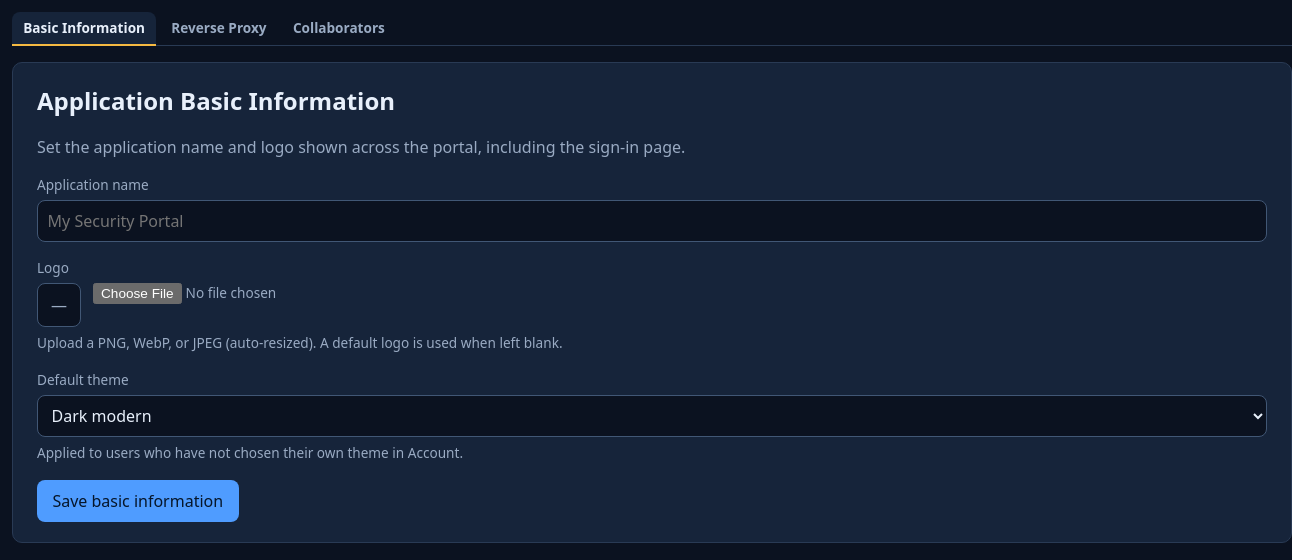
GeneralSettings › adds, removes, and saves collaborators
The image size is (1292, 560).
Click the button "Collaborators" at coordinates (339, 29), box 282,12 -> 396,46
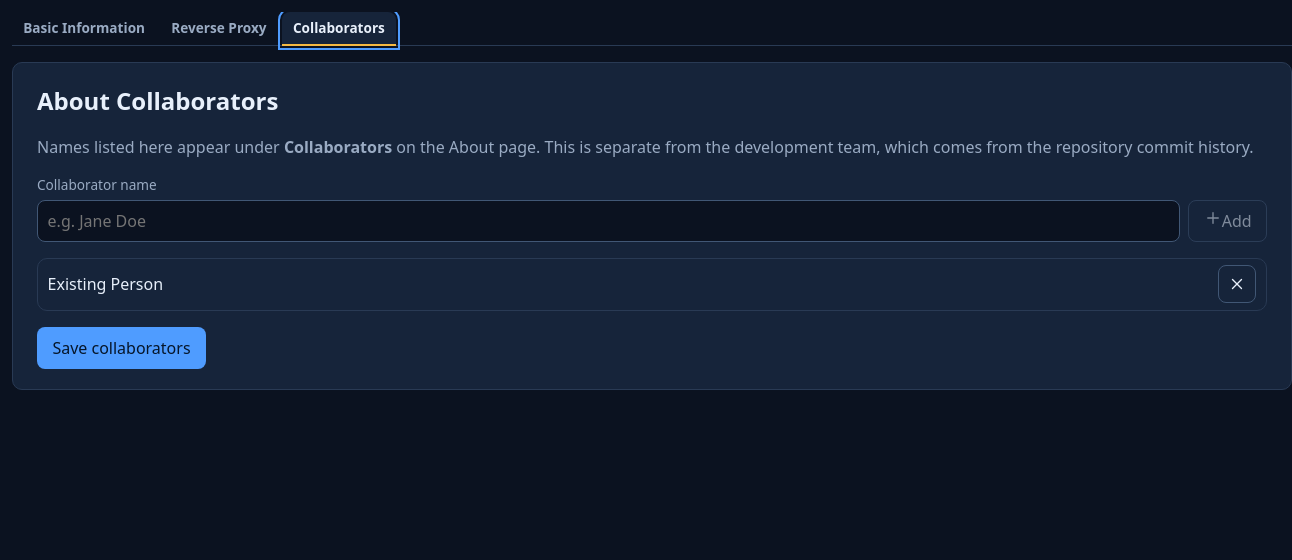
Result: the text "Existing Person" is shown at 48,272 -> 163,296
Type "New Person" into the field labelled "Collaborator name" at coordinates (609, 221), box 37,200 -> 1180,242
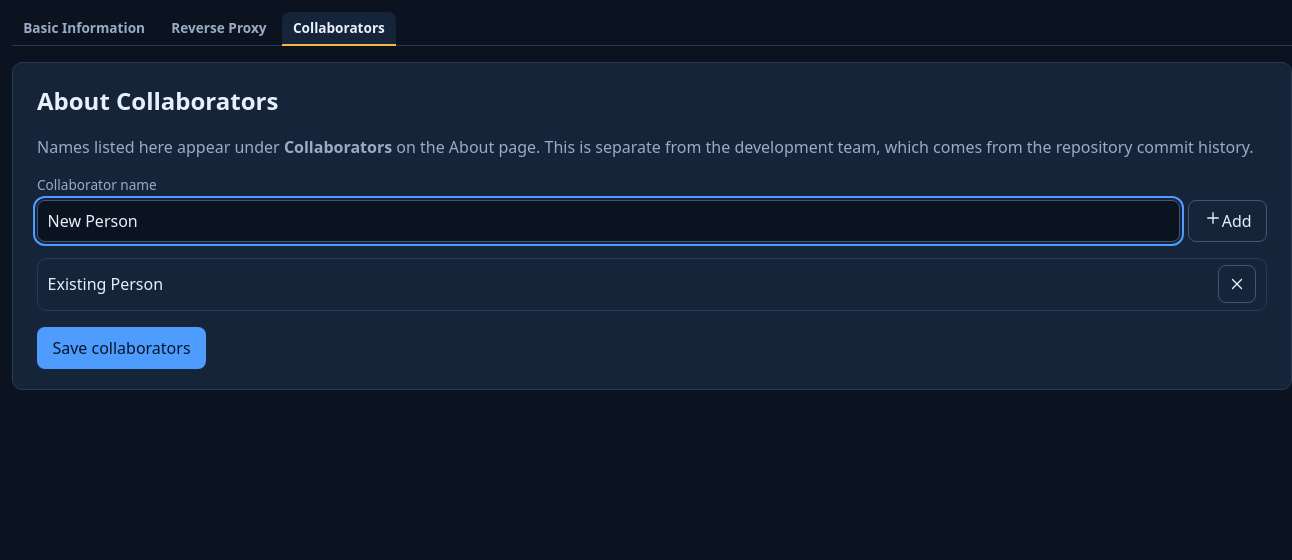
Click the button "Add" at coordinates (1228, 221), box 1188,200 -> 1267,242
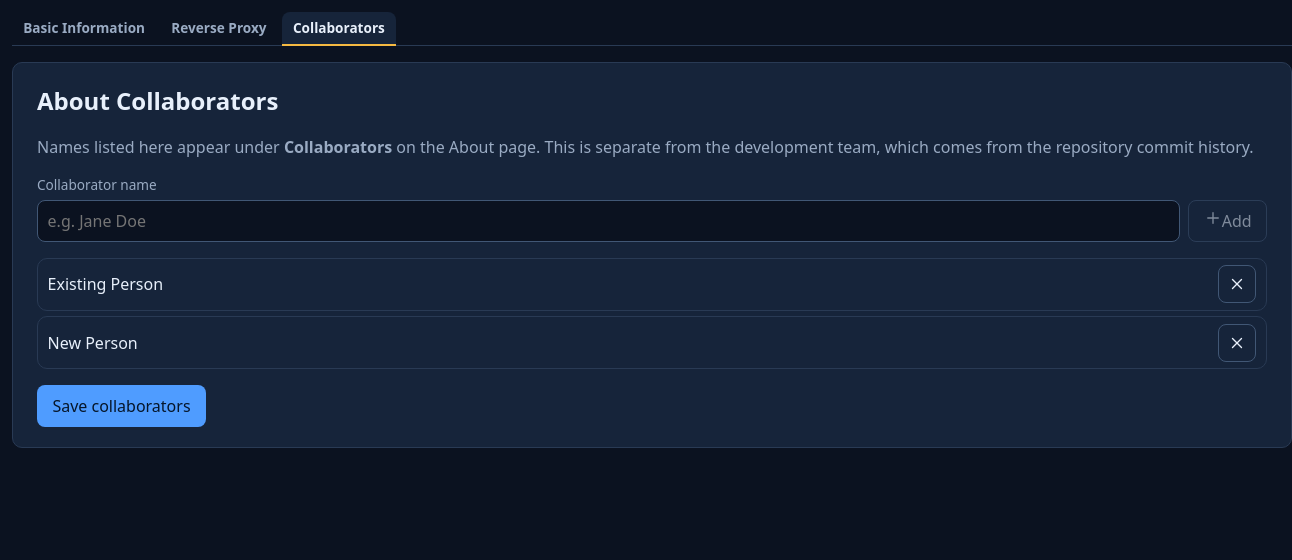
Result: the text "New Person" is shown at 48,330 -> 138,354
Click the button named "remove existing person" at coordinates (1237, 284), box 1218,265 -> 1256,303
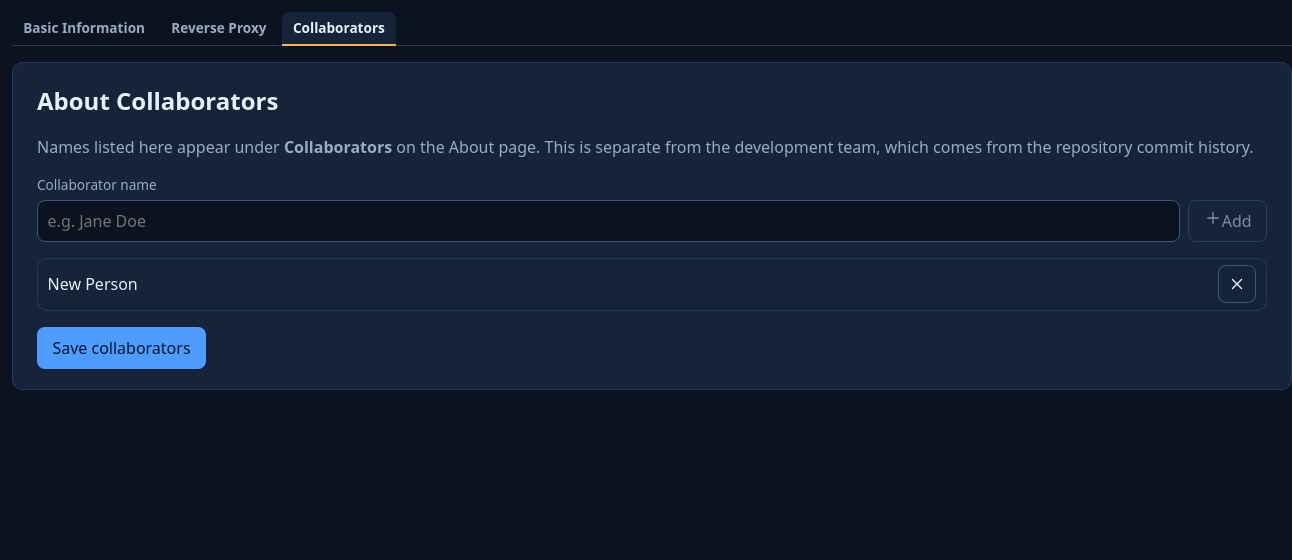
Result: the text "Existing Person" is gone
Click the button "Save collaborators" at coordinates (122, 348), box 37,326 -> 206,368
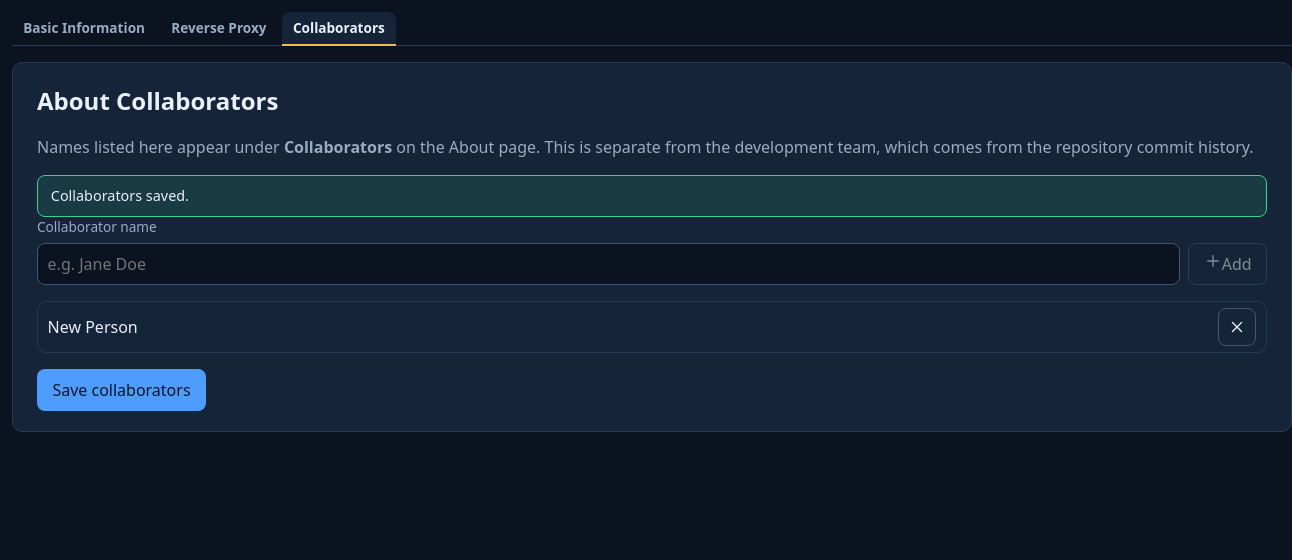
Result: the text "Collaborators saved." is shown at 37,175 -> 1267,217
